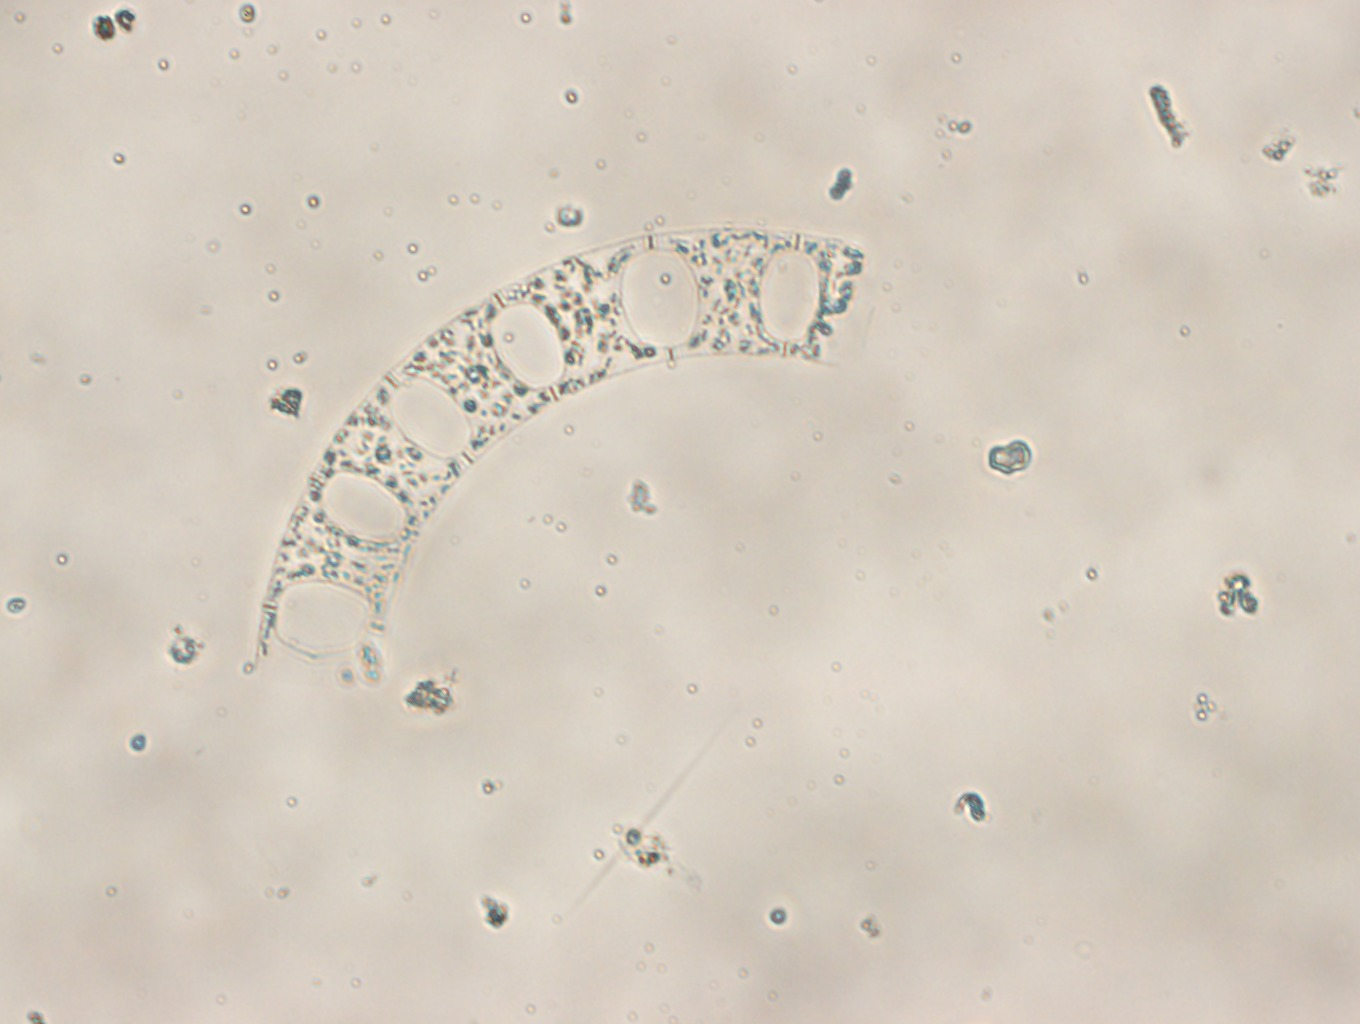eucampia: (257, 230, 870, 668)
